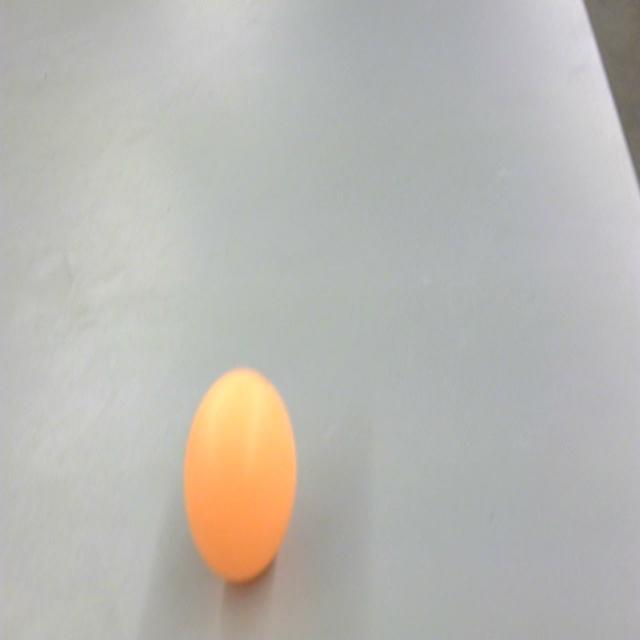ball: (182, 364, 299, 584)
